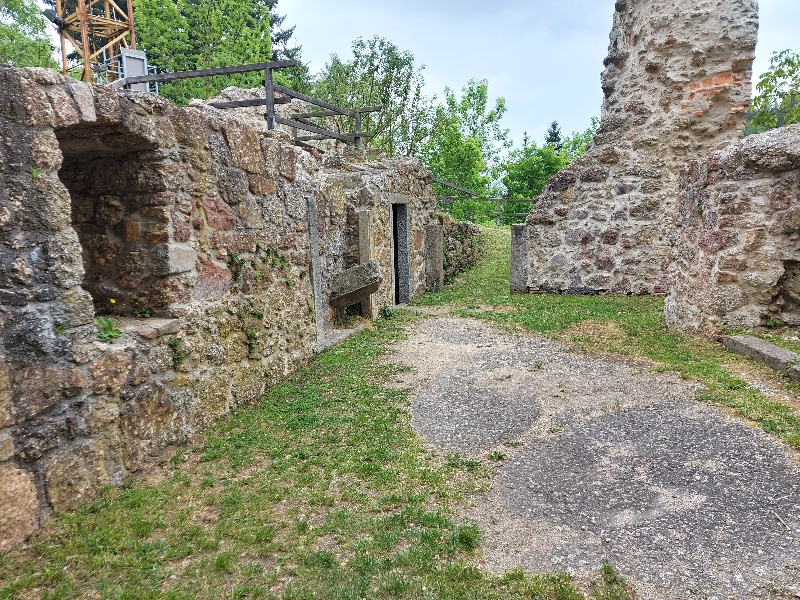door2: (384, 184, 421, 322)
